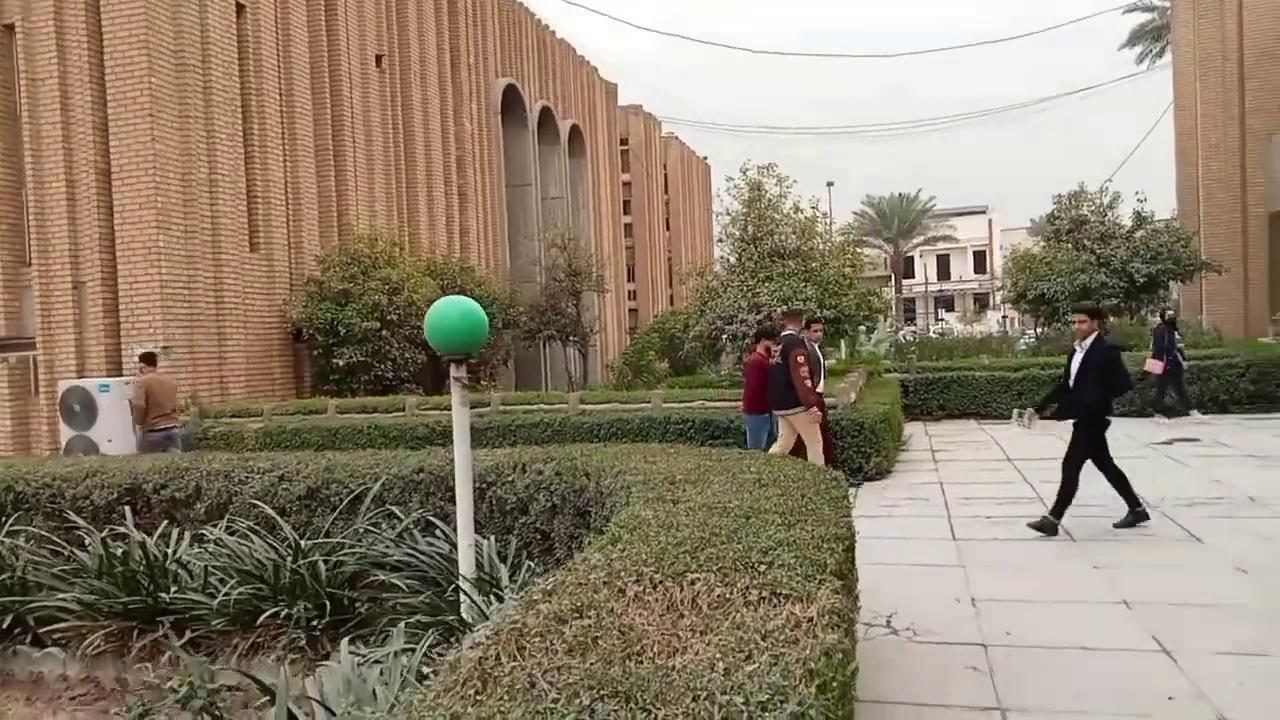person: (1025, 300, 1150, 536), (767, 306, 825, 466), (1148, 308, 1200, 421), (800, 315, 837, 466), (130, 351, 182, 453), (740, 324, 779, 451)
tree: (670, 158, 888, 379), (280, 229, 520, 397), (994, 178, 1228, 341), (1116, 0, 1220, 332), (838, 187, 958, 341), (509, 222, 611, 396), (1122, 190, 1223, 325), (605, 306, 708, 392), (1117, 0, 1171, 70)
